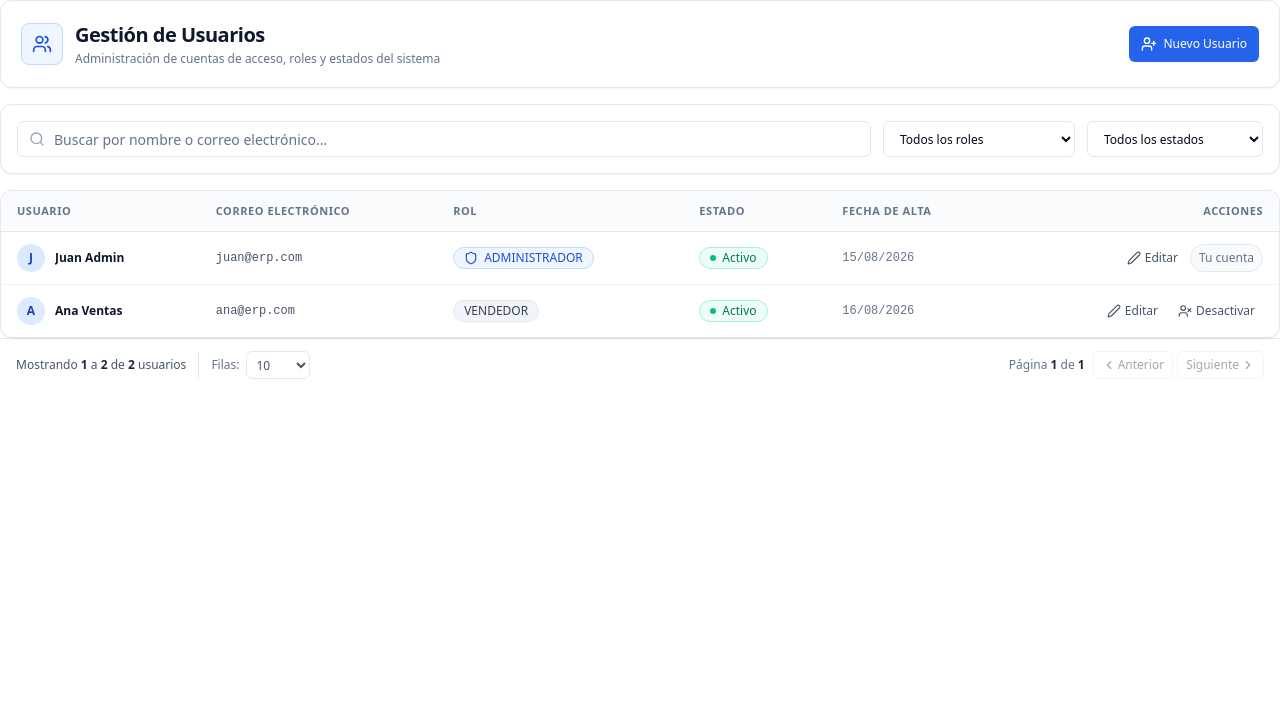
Test: UsersPage administrative user management › Deactivation, Self-Protection, and Invariants › executes soft delete on confirmation and displays success message
This screenshot has width=1280, height=720.
Click the button "Desactivar" at (1216, 311), box x1=1170 y1=297 x2=1263 y2=325
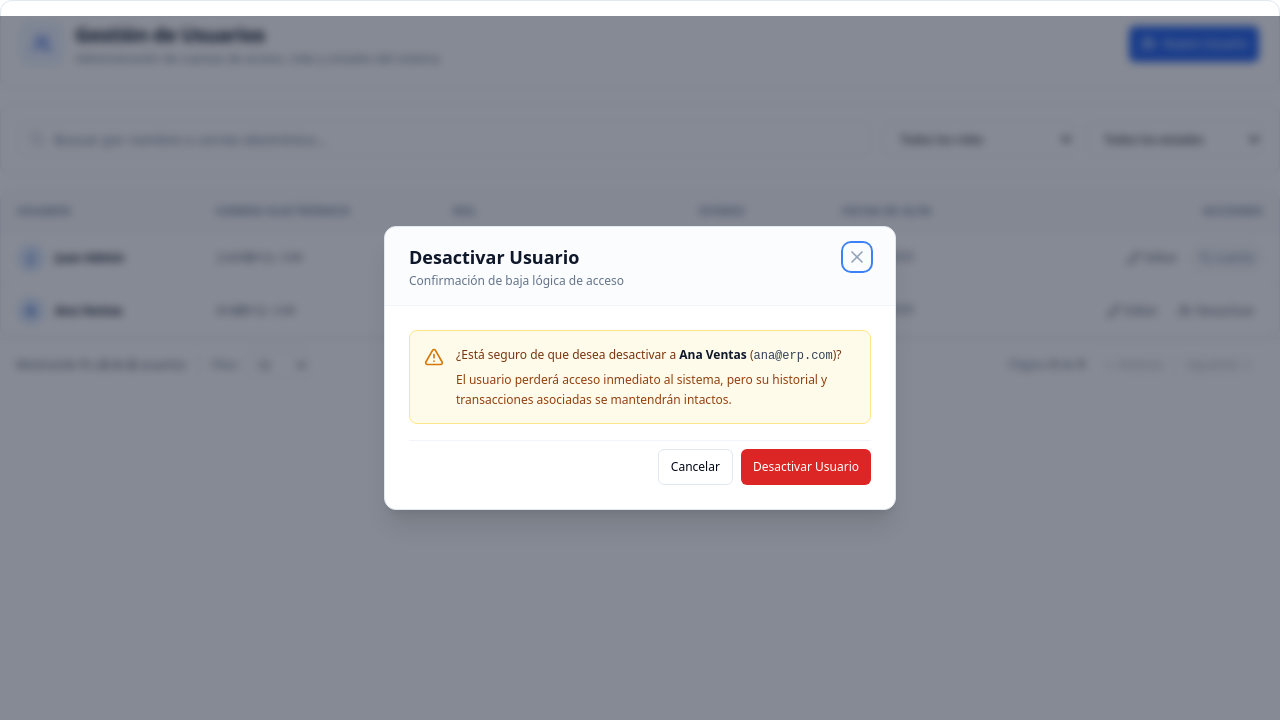
Click the button "Desactivar Usuario" at (806, 467), box x1=741 y1=449 x2=871 y2=485
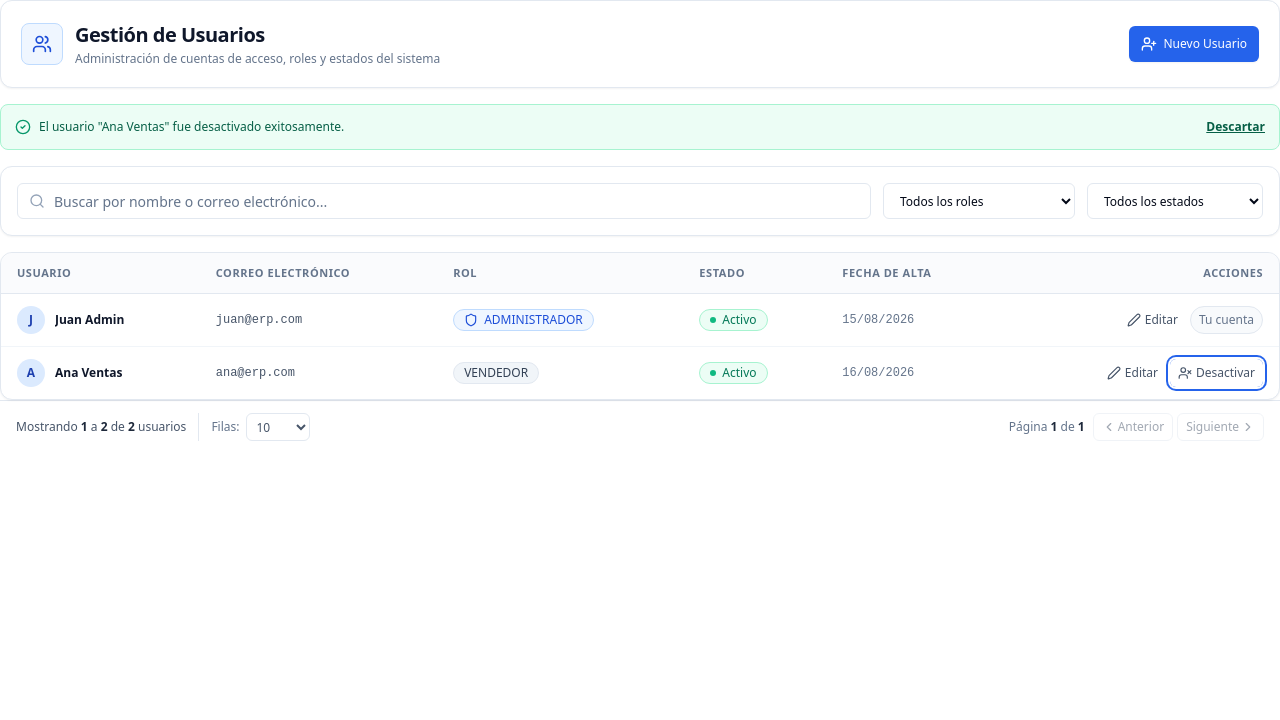
Now the dialog is gone
